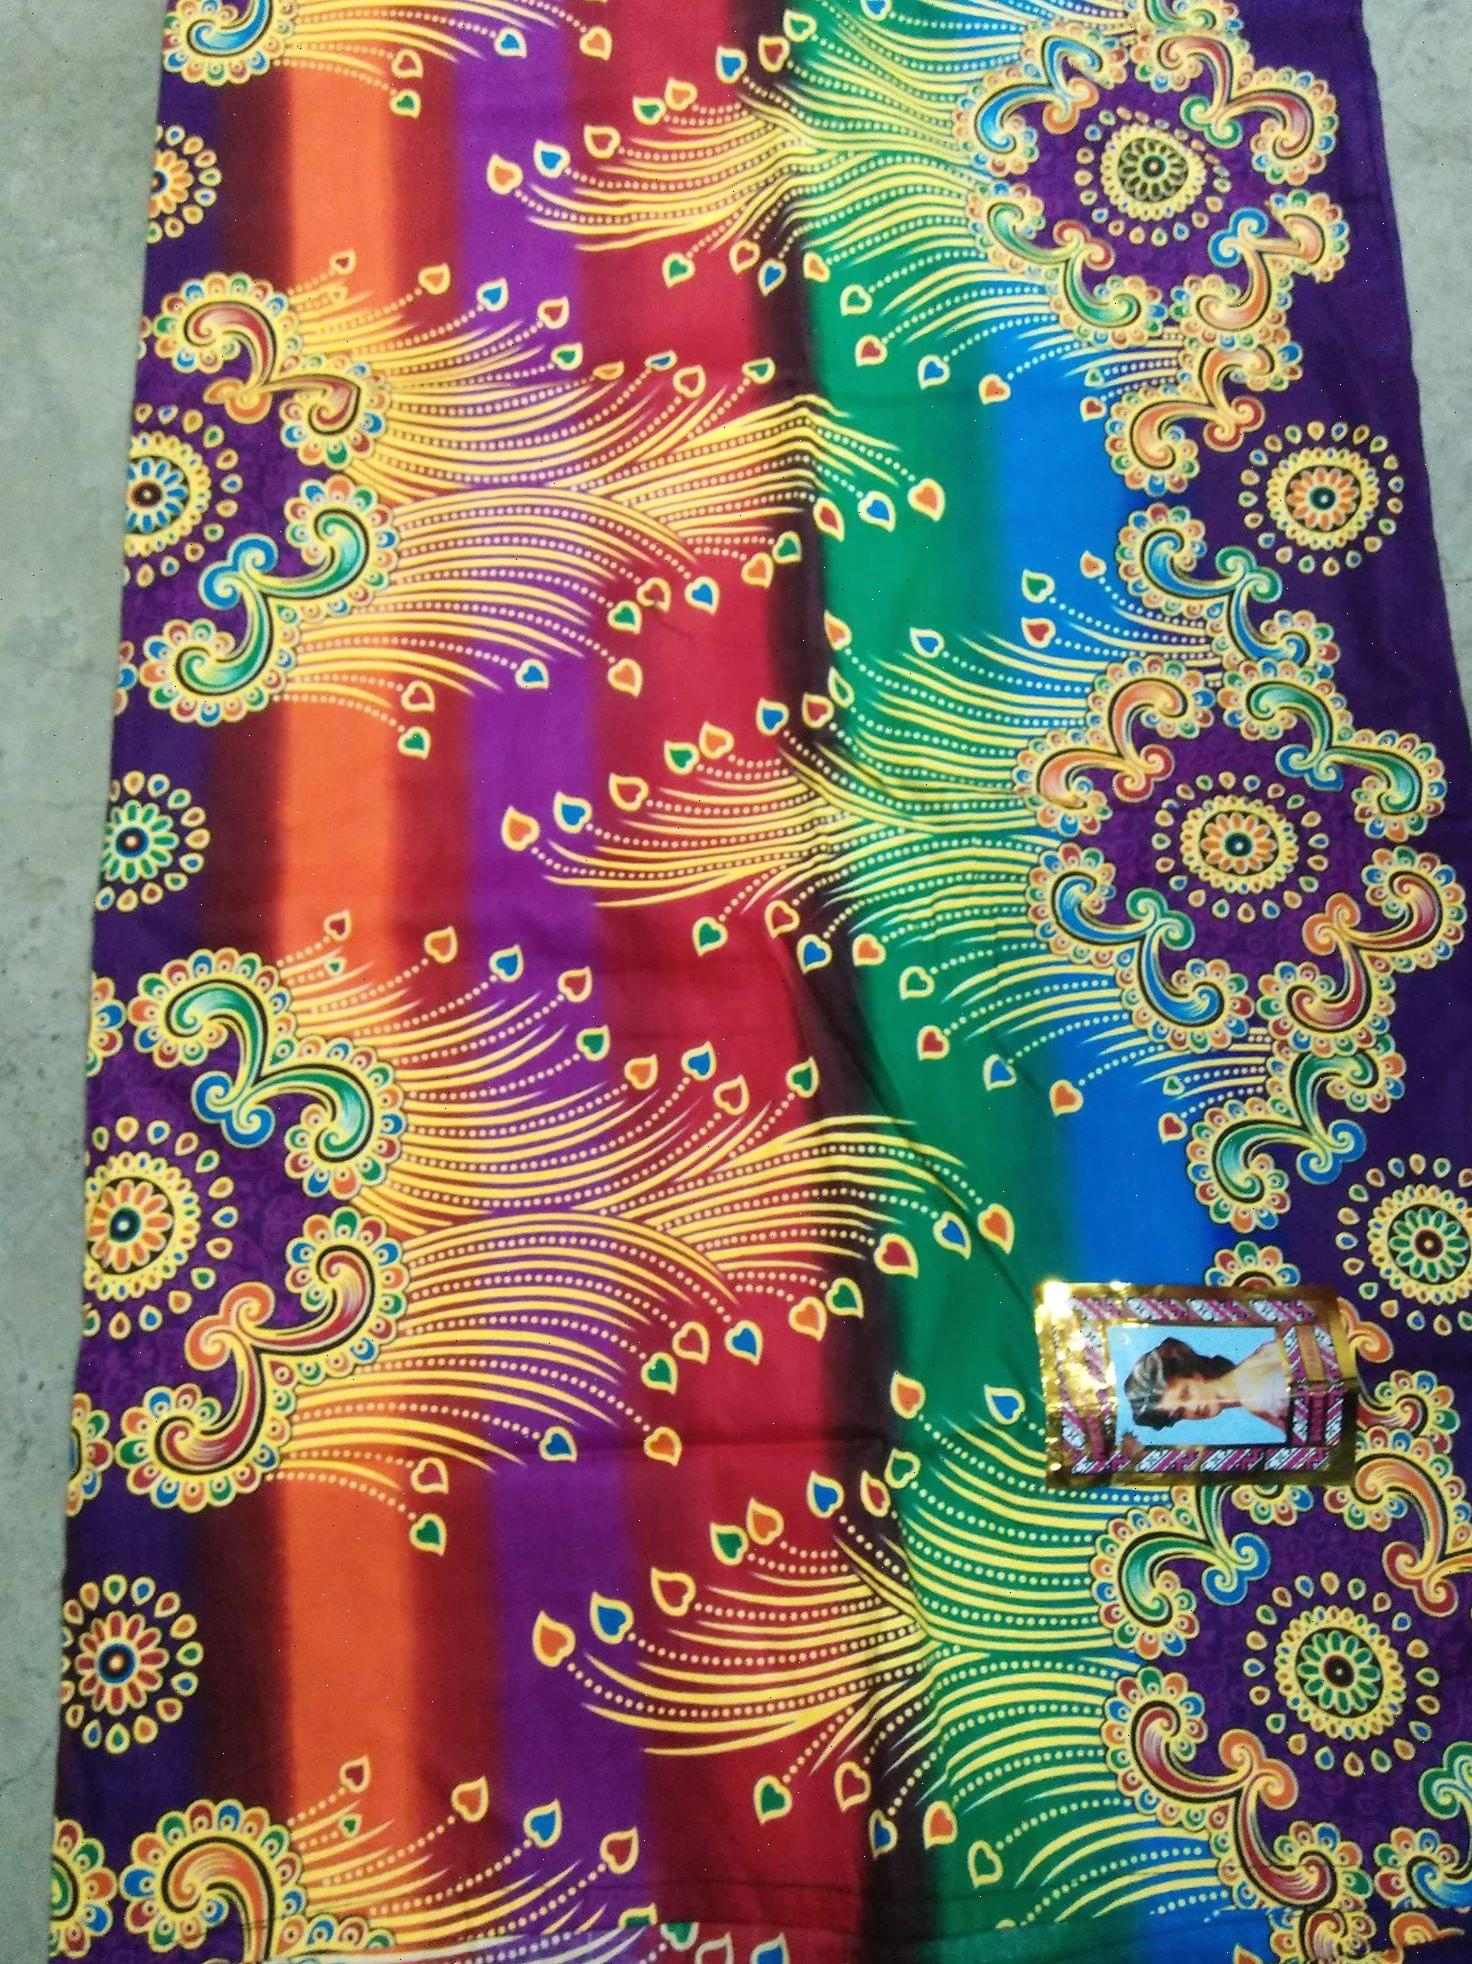malong: (66, 0, 1472, 1964)
